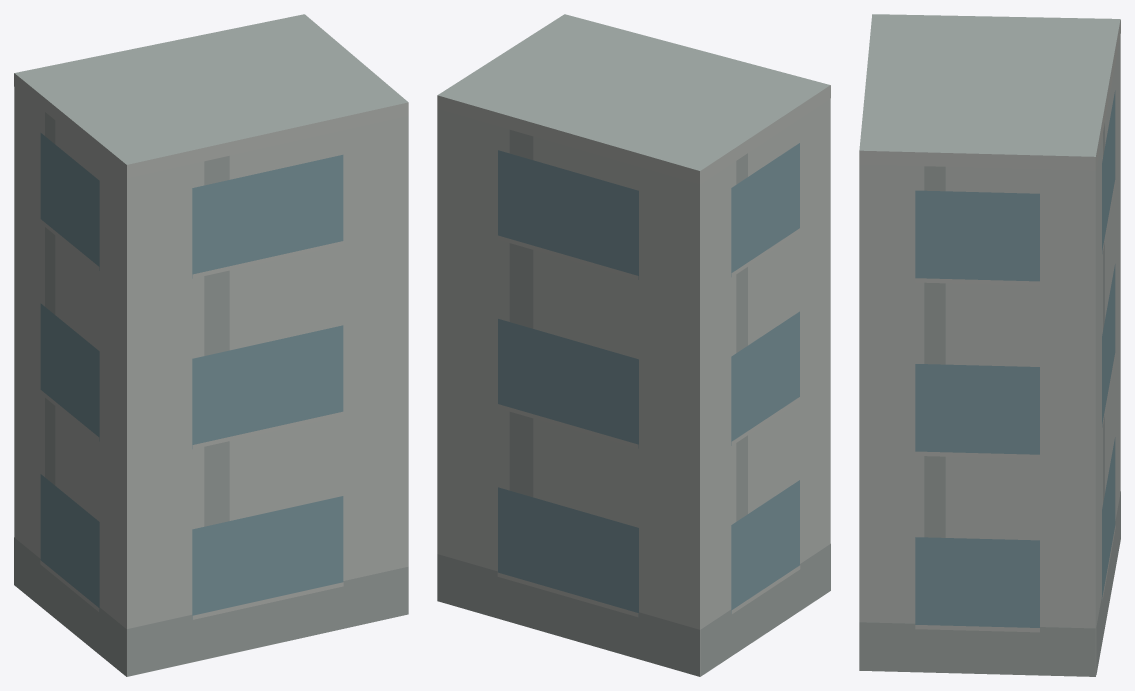
Rendered from survey-upis-32647776.glb.
The picture shows the model from 3 angles, left to right: view 1: azimuth 30°, elevation 25°; view 2: azimuth 150°, elevation 25°; view 3: azimuth 270°, elevation 25°; orthographic projection. The views are drawn at different scales.
Visible parts, largest first — view 1: survey-upis-32647776.tmp; view 2: survey-upis-32647776.tmp; view 3: survey-upis-32647776.tmp.
Part boxes in pixels (bbox=[...]): survey-upis-32647776.tmp: bbox=[14, 14, 408, 676]; survey-upis-32647776.tmp: bbox=[437, 14, 830, 676]; survey-upis-32647776.tmp: bbox=[859, 14, 1120, 676].
Bounding box in the file's own units: 5.4 × 9.15 × 4.18.
